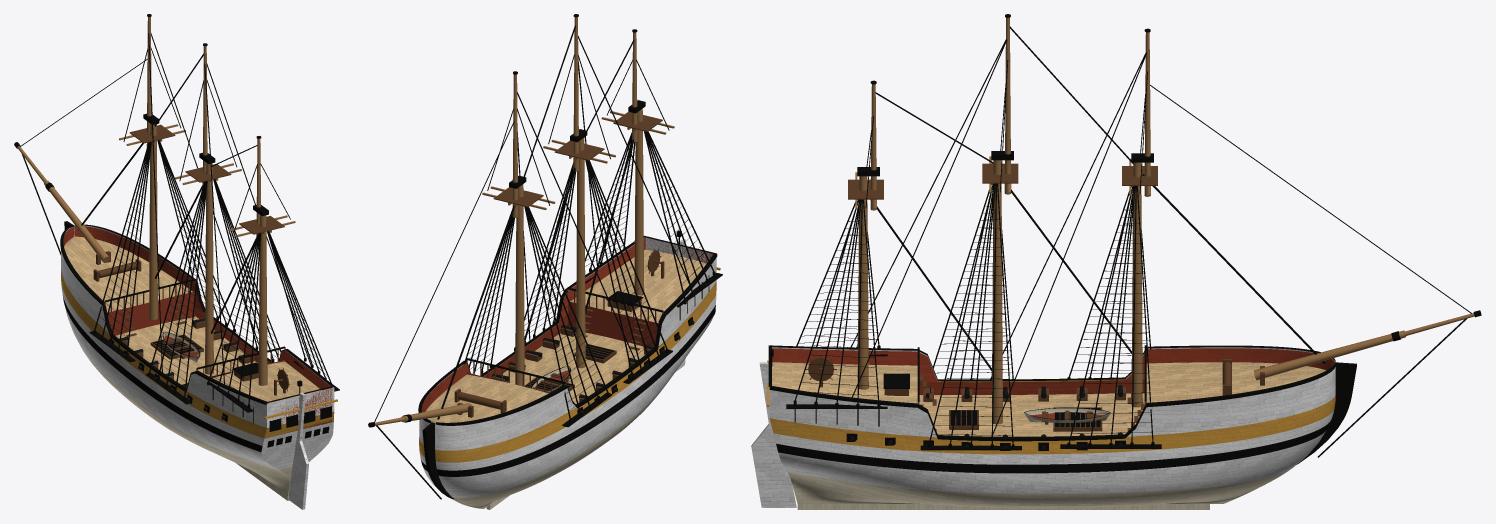
The model's file is merchantman.glb.
3 views of the same model, side by side, from view 1: azimuth 30°, elevation 25°; view 2: azimuth 150°, elevation 25°; view 3: azimuth 270°, elevation 25° (orthographic). The views are drawn at different scales.
Visible parts, largest first — view 1: hull; view 2: hull; view 3: hull.
Part boxes in pixels (x1,y1,x2,y2): hull: (14, 14, 339, 509); hull: (368, 14, 722, 509); hull: (751, 14, 1481, 509).
Size of the model in its own units: 8.51 by 29.23 by 39.18.
9 materials, 5 textured.
